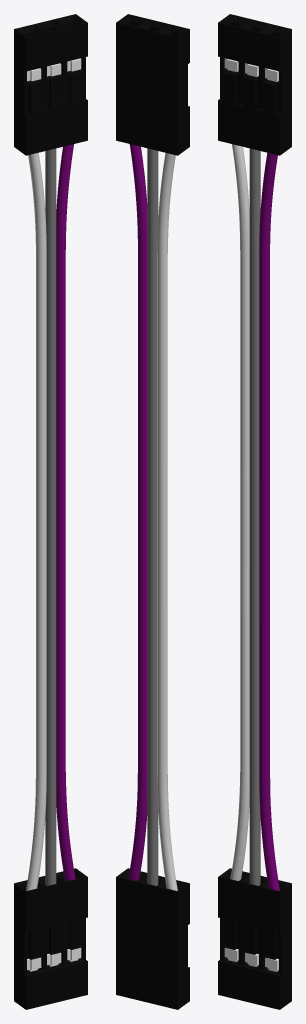
File: cable_IDC_1x3_2.54mm.glb
The picture shows the model from 3 angles, left to right: view 1: azimuth 30°, elevation 25°; view 2: azimuth 150°, elevation 25°; view 3: azimuth 330°, elevation 25°; orthographic projection.
Parts seen in each view (by area): view 1: Solid1, Solid6, Solid7, Solid8, Solid2; view 2: Solid1, Solid7, Solid6, Solid8; view 3: Solid1, Solid6, Solid8, Solid7, Solid2.
Boxes of the visible parts, box(x1,y1,x2,y2) form: Solid1: box(14, 14, 87, 1009); Solid6: box(45, 148, 56, 885); Solid7: box(26, 152, 46, 890); Solid8: box(56, 144, 75, 880); Solid2: box(27, 58, 81, 971); Solid1: box(116, 14, 189, 1009); Solid7: box(157, 152, 177, 890); Solid6: box(147, 148, 158, 885); Solid8: box(128, 144, 147, 880); Solid1: box(218, 14, 291, 1009); Solid6: box(249, 148, 260, 885); Solid8: box(259, 152, 279, 890); Solid7: box(230, 144, 249, 880); Solid2: box(224, 58, 278, 971).
Size of the model in its own units: 0.0077 by 0.1155 by 0.00262.
